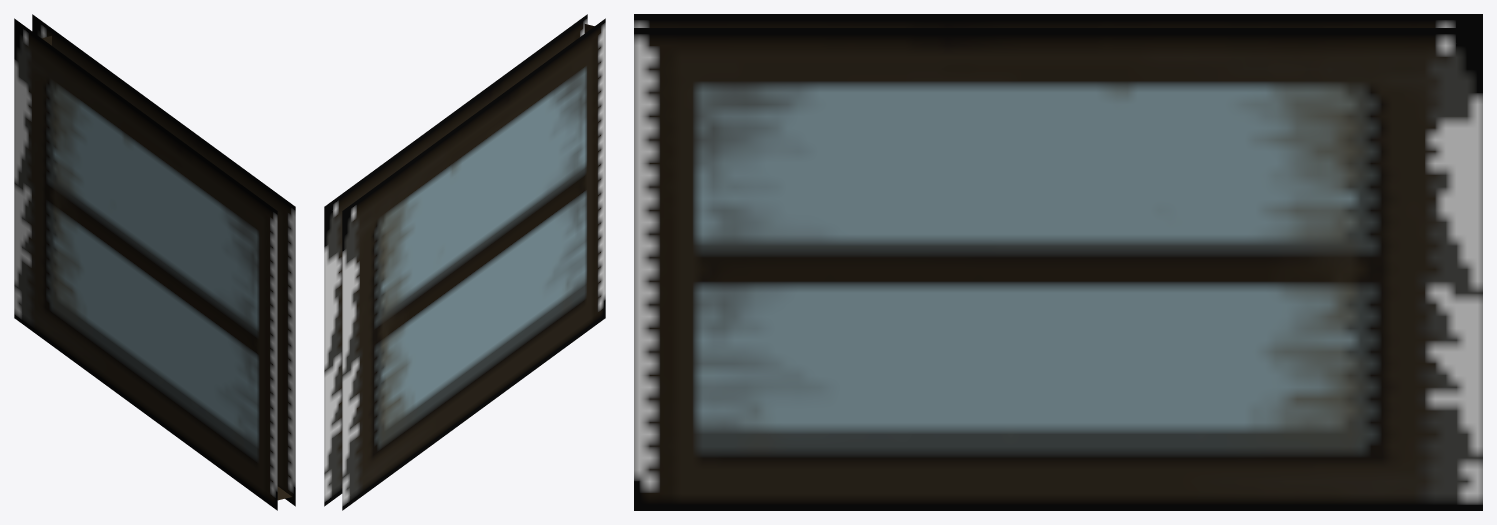
The model's file is pz_native_fixtures_windows_01_56_frame.obj.
3 renders of one model, left to right at view 1: azimuth 30°, elevation 25°; view 2: azimuth 150°, elevation 25°; view 3: azimuth 270°, elevation 25°, orthographic. The views are drawn at different scales.
Parts seen in each view (by area): view 1: pz_native_fixtures_windows_01_56_frame; view 2: pz_native_fixtures_windows_01_56_frame; view 3: pz_native_fixtures_windows_01_56_frame.
Boxes of the visible parts, x1,y1,x2,y2 form: pz_native_fixtures_windows_01_56_frame: [14, 14, 295, 510]; pz_native_fixtures_windows_01_56_frame: [324, 14, 605, 510]; pz_native_fixtures_windows_01_56_frame: [634, 14, 1482, 510].
Size of the model in its own units: 0.04 by 0.6406 by 1.02.
Materials: 1 (1 with a texture image).
